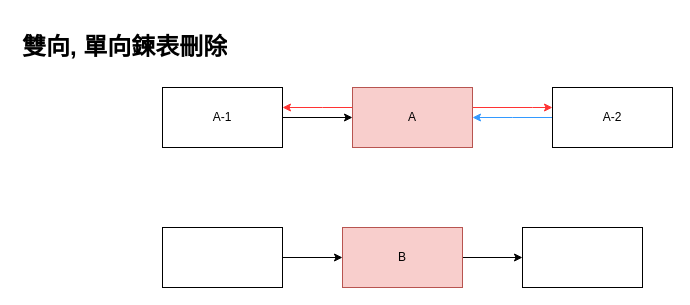
The diagram is 690 pixels wide and 305 high, and some of its shapes have lost their labels. Each missing label, with the centre of its shape:
"B-1" belongs at (222,257).
"B-2" belongs at (582,257).
